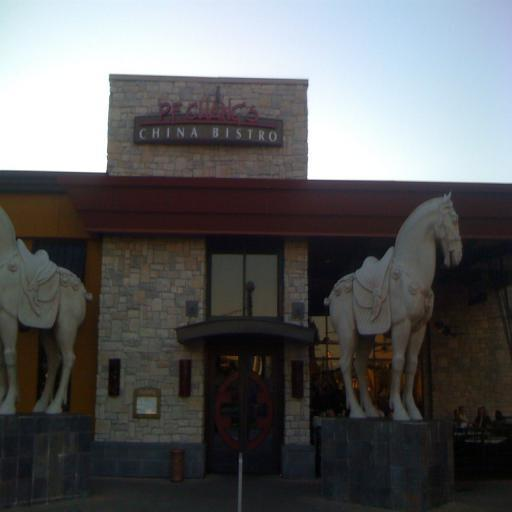horse: (324, 190, 464, 417), (0, 207, 91, 417)
